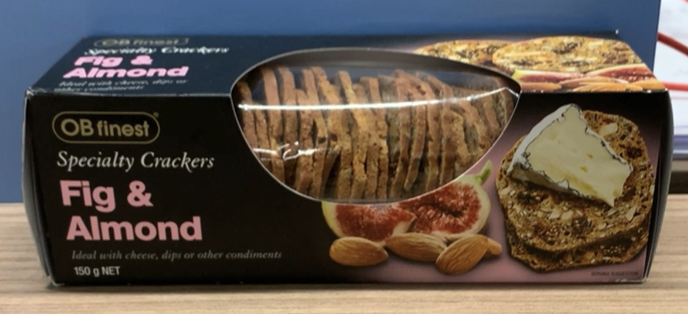crackers_100g-199g: (59, 53, 635, 276)
